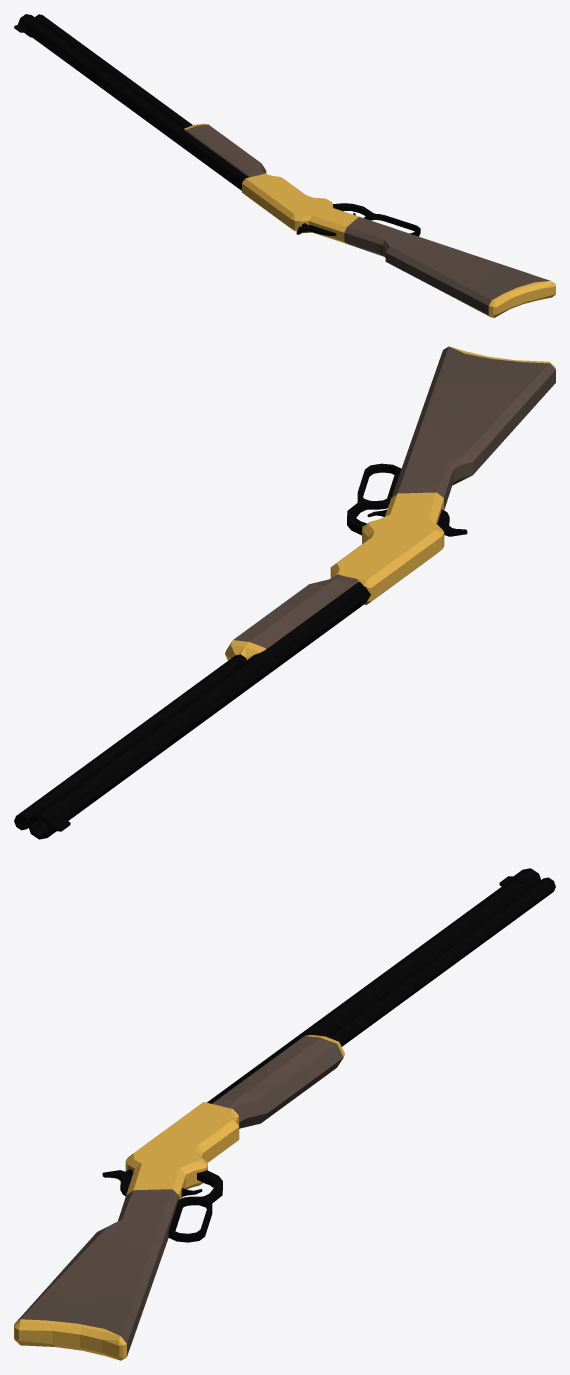
The model's file is Rifle.obj.
3 views of the same model, one above another, from view 1: azimuth 30°, elevation 25°; view 2: azimuth 150°, elevation 25°; view 3: azimuth 330°, elevation 25° (orthographic). The views are drawn at different scales.
Bounding box in the file's own units: 0.4237 × 0.0573 × 2.19.
1 material, 1 textured.
